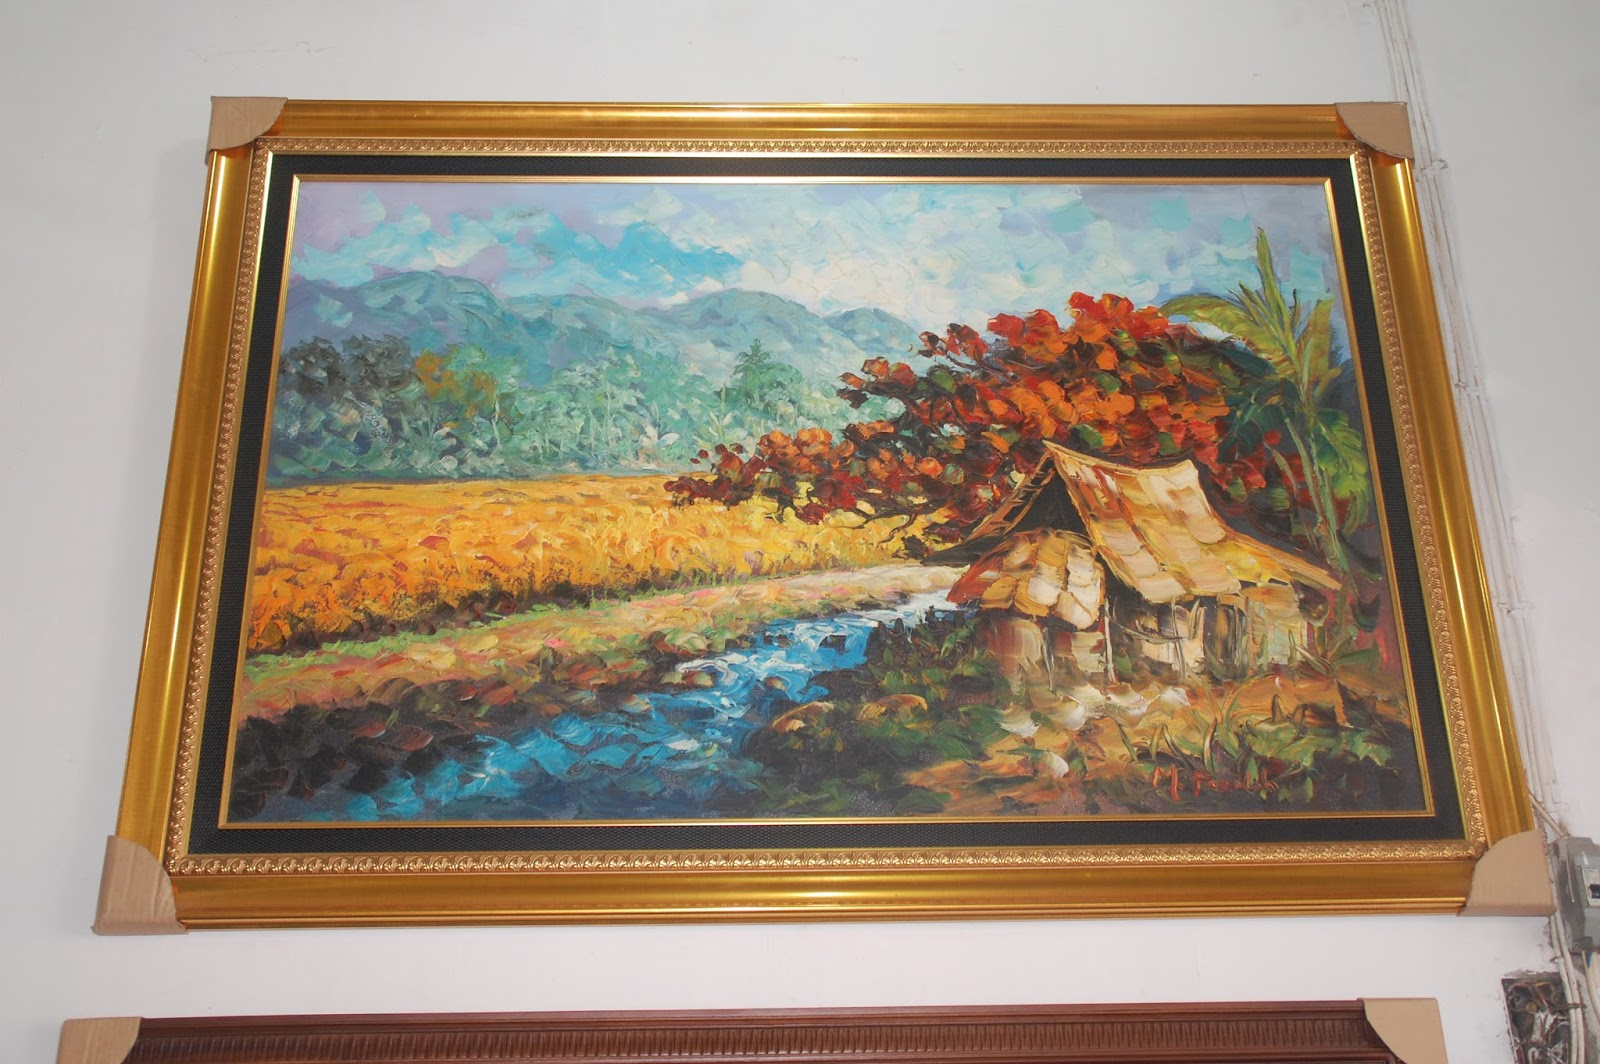lukisan: (178, 91, 1443, 925)
